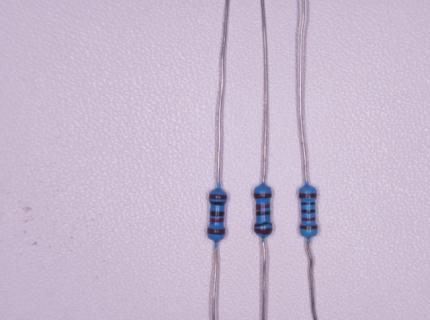Black band: (254, 222, 272, 227), (210, 211, 224, 216), (257, 211, 270, 216), (210, 201, 226, 205), (301, 209, 315, 213), (301, 202, 315, 205)
Brown band: (207, 228, 225, 235), (254, 228, 273, 234), (209, 194, 227, 200), (254, 193, 272, 199), (300, 225, 318, 230), (299, 193, 317, 198)
Red band: (302, 217, 316, 221), (256, 204, 270, 208), (210, 218, 224, 222)
